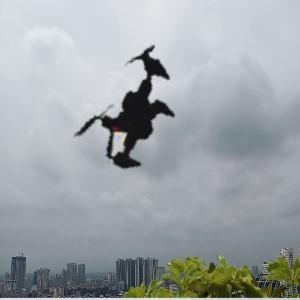drone: (33, 13, 222, 202)
